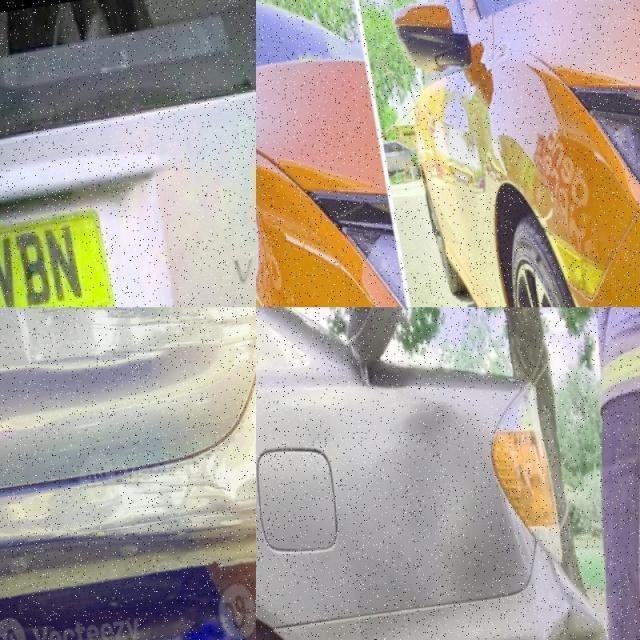car damage: (339, 395, 490, 554), (542, 602, 621, 640)
